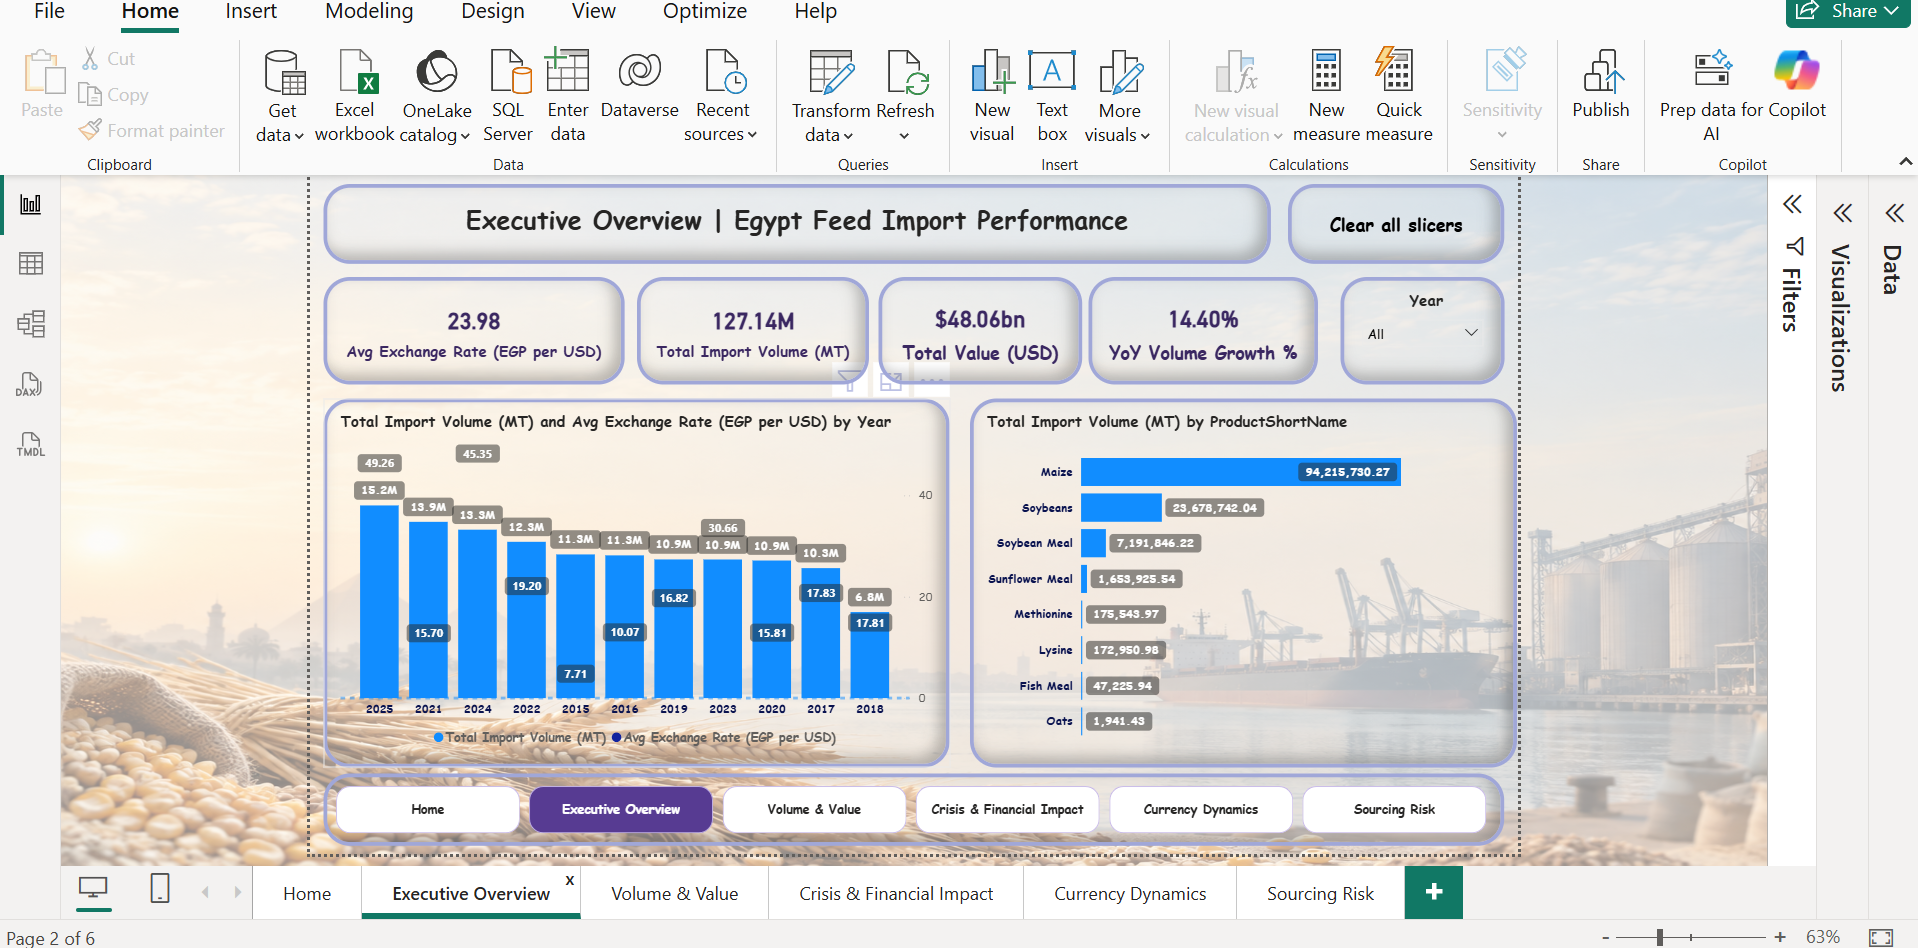

This screenshot's page, from the dashboard's own definition file:
{"tool":"powerbi","page":{"name":"Executive Overview","canvas":[1280,720],"ordinal":1},"visuals":[{"type":"card","fields":{"Values":["_Measures.YoY Volume Growth %"]},"box":[824.8,108,243.2,113.8],"z":0},{"type":"slicer","title":"Year","fields":{"Values":["DimYear.Year"]},"box":[1092.3,108,174.1,113.8],"z":1000},{"type":"lineStackedColumnComboChart","fields":{"Category":["DimYear.Year"],"Y":["_Measures.Total Import Volume (MT)"],"Y2":["_Measures.Avg Exchange Rate (EGP per USD)"]},"box":[14.6,237.3,664.3,391],"z":2000},{"type":"clusteredBarChart","fields":{"Category":["DimProduct.ProductShortName"],"Y":["_Measures.Total Import Volume (MT)"]},"box":[700.3,237.3,579.7,391],"z":3000},{"type":"textbox","box":[14.6,8.8,1004.7,84.6],"z":4000},{"type":"actionButton","box":[1036.8,8.8,229.5,84.6],"z":5000},{"type":"card","fields":{"Values":["_Measures.Total Value (USD)"]},"box":[602.1,108,215.9,113.8],"z":6000},{"type":"card","fields":{"Values":["_Measures.Avg Exchange Rate (EGP per USD)"]},"box":[14.6,108,319,113.8],"z":7000},{"type":"card","fields":{"Values":["_Measures.Total Import Volume (MT)"]},"box":[347.2,108,246.1,113.8],"z":8000},{"type":"pageNavigator","box":[14.6,635.1,1251.8,76.8],"z":9000}]}

Visuals, with their boxes on the page's 1280x720 design canvas (x1, y1, x2, y2). These are canvas units, not pixel positions in the 1918x948 screenshot, which may show the page scaled, cropped or inside an application window:
card - _Measures.YoY Volume Growth %: box(825, 108, 1068, 222)
"Year" slicer: box(1092, 108, 1266, 222)
lineStackedColumnComboChart - DimYear.Year x _Measures.Total Import Volume (MT): box(15, 237, 679, 628)
clusteredBarChart - DimProduct.ProductShortName x _Measures.Total Import Volume (MT): box(700, 237, 1280, 628)
textbox: box(15, 9, 1019, 93)
actionButton: box(1037, 9, 1266, 93)
card - _Measures.Total Value (USD): box(602, 108, 818, 222)
card - _Measures.Avg Exchange Rate (EGP per USD): box(15, 108, 334, 222)
card - _Measures.Total Import Volume (MT): box(347, 108, 593, 222)
pageNavigator: box(15, 635, 1266, 712)
